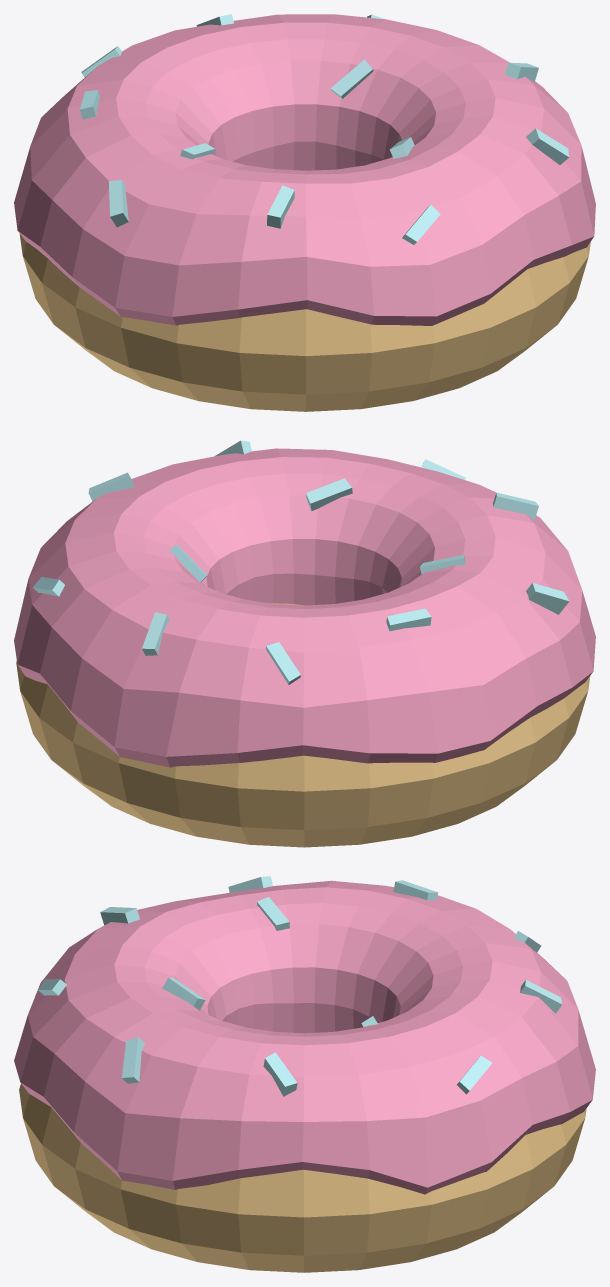
Rendered from donut-poly.glb.
3 renders of one model, top to bottom at view 1: azimuth 30°, elevation 25°; view 2: azimuth 150°, elevation 25°; view 3: azimuth 270°, elevation 25°, orthographic.
Parts seen in each view (by area): view 1: node-0; view 2: node-0; view 3: node-0.
Part boxes in pixels (<box>): node-0: <box>14,14,595,411</box>; node-0: <box>14,440,595,847</box>; node-0: <box>14,876,595,1272</box>.
Size of the model in its own units: 9.85 by 4.25 by 10.01.
